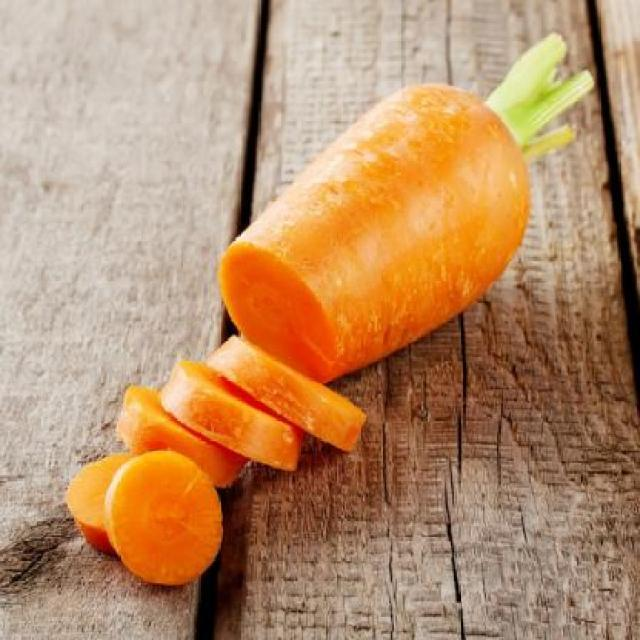carrot: (218, 34, 598, 380)
